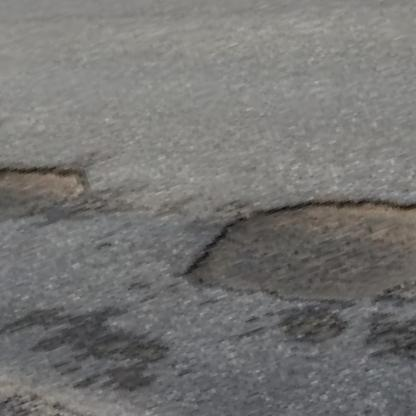pothole: (173, 140, 416, 369), (0, 142, 91, 247)
